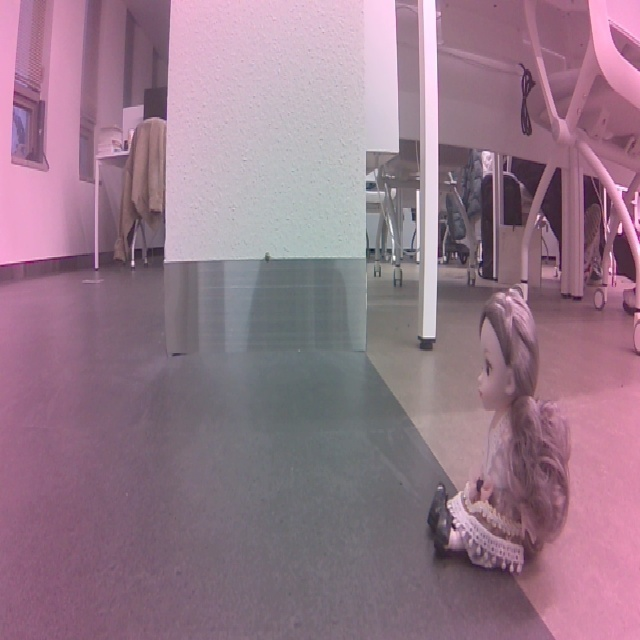장애물: (422, 279, 580, 581)
